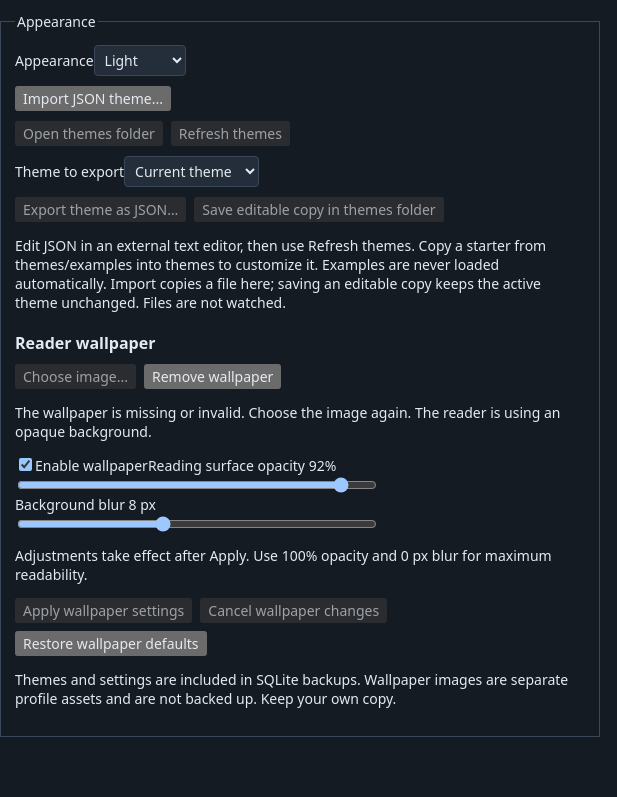
Scenario: keeps invalid import errors localized and displays missing wallpaper fallback
expect the text "wallpaper is missing or invalid" is shown: met, box [15,403,560,441]
Click the button "Import JSON theme...": coordinates (93, 98) [15,86,171,111]
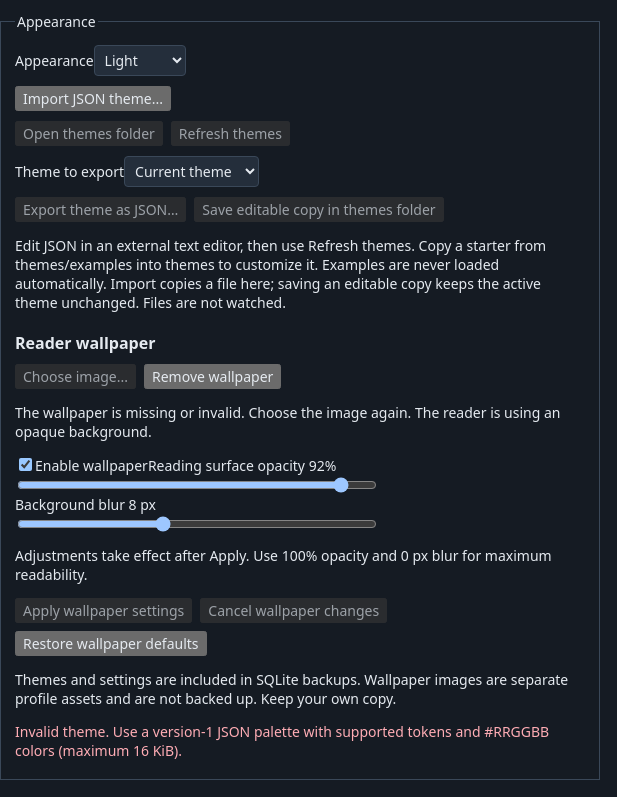
expect the 2nd message shows "Invalid theme": met, box [15,722,549,760]
Click the button "Import JSON theme...": coordinates (93, 98) [15,86,171,111]
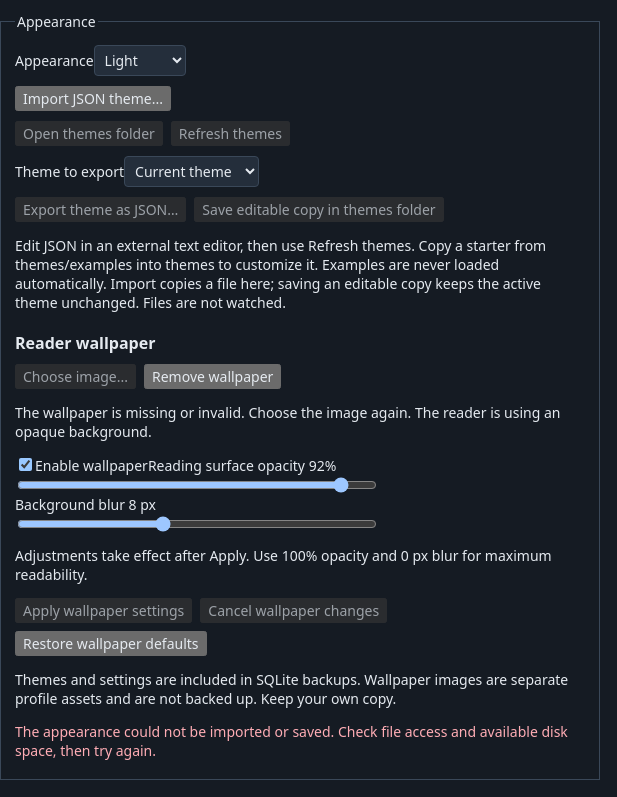
expect the 2nd message shows "could not be imported or saved": met, box [15,722,568,760]
